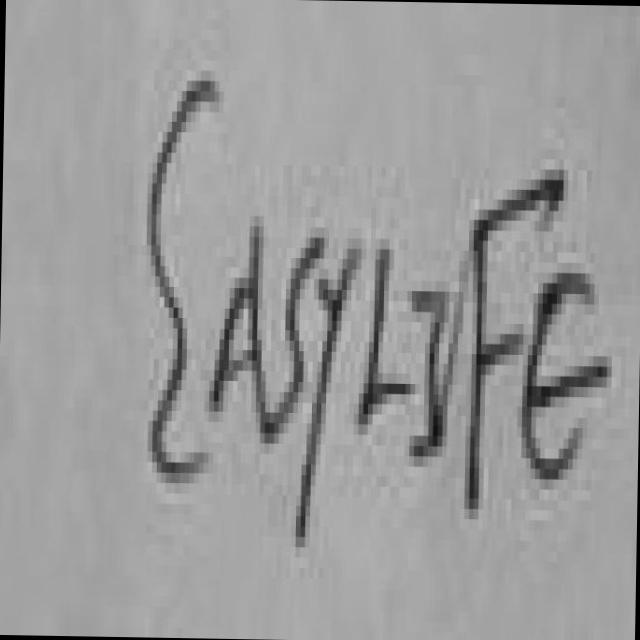A: (213, 226, 274, 443)
E: (151, 80, 219, 483), (526, 273, 611, 479)
F: (469, 179, 567, 504)
I: (413, 291, 449, 451)
L: (363, 249, 415, 419)
S: (274, 237, 324, 418)
Y: (300, 248, 361, 542)
